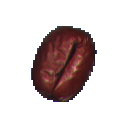ng: (25, 21, 102, 109)
